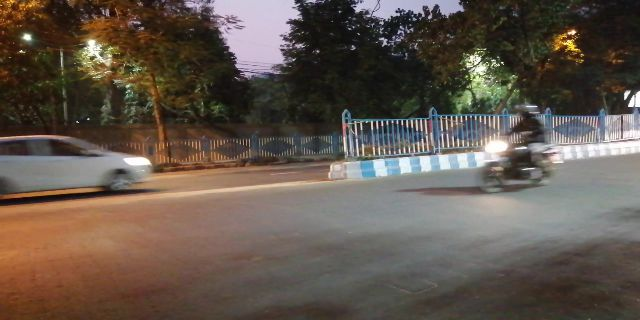Car: (7, 135, 154, 190)
Motorbike: (482, 104, 553, 196)
